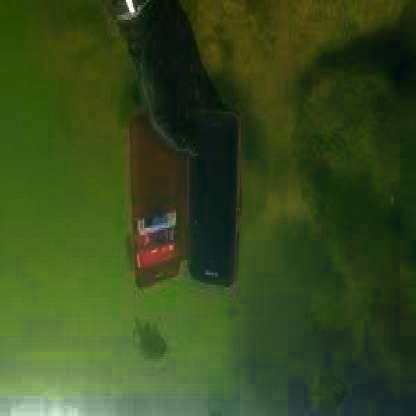cellphone: (190, 109, 240, 287)
